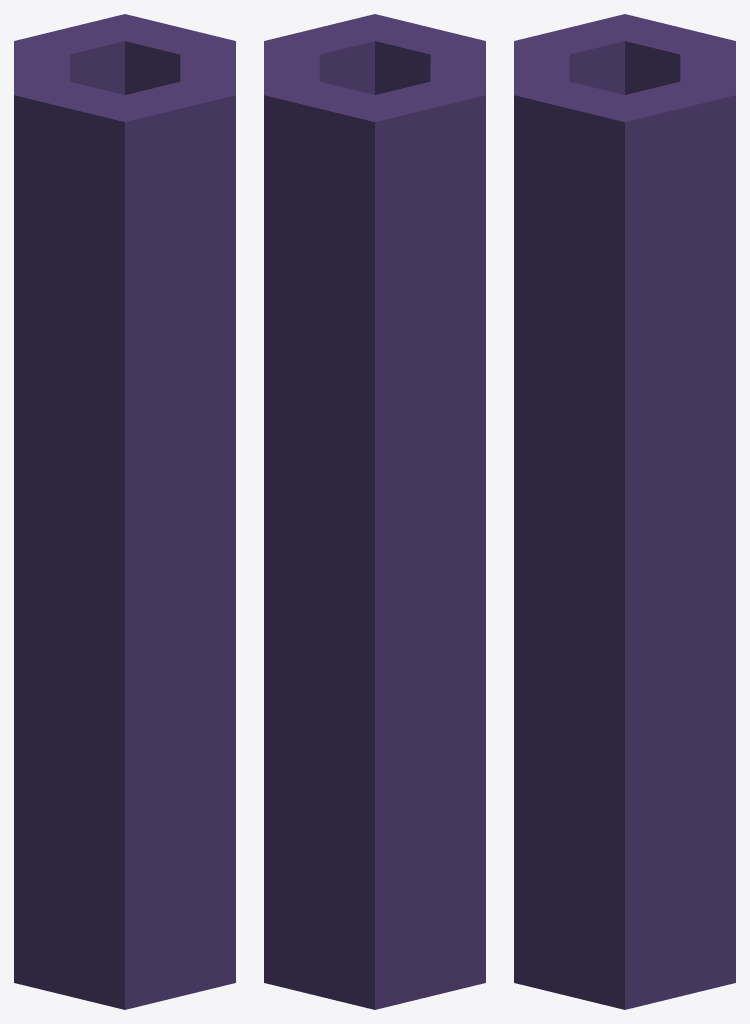
Rendered from Hex_Tall_12.fbx.
3 renders of one model, left to right at view 1: azimuth 30°, elevation 25°; view 2: azimuth 150°, elevation 25°; view 3: azimuth 270°, elevation 25°, orthographic.
Parts seen in each view (by area): view 1: TileHex12; view 2: TileHex12; view 3: TileHex12.
Part boxes in pixels (x1,y1,x2,y2): TileHex12: (14, 14, 235, 1009); TileHex12: (264, 14, 485, 1009); TileHex12: (514, 14, 735, 1009).
Bounding box in the file's own units: 118 × 450 × 102.
